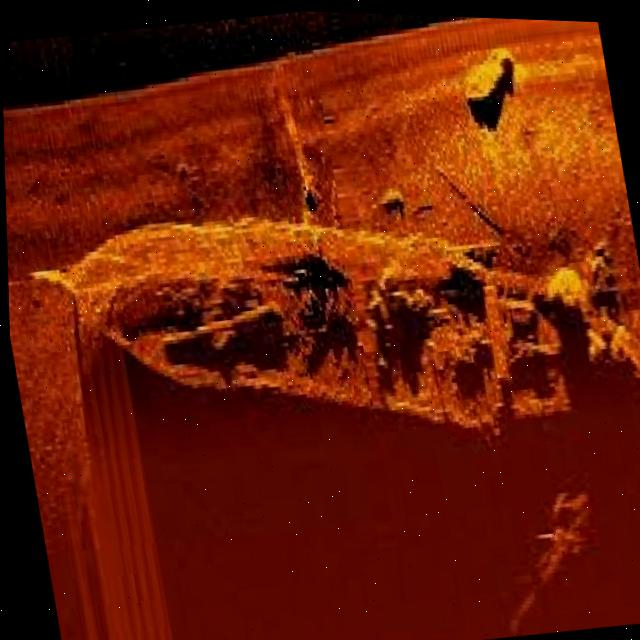shipwreck: (36, 152, 611, 486)
